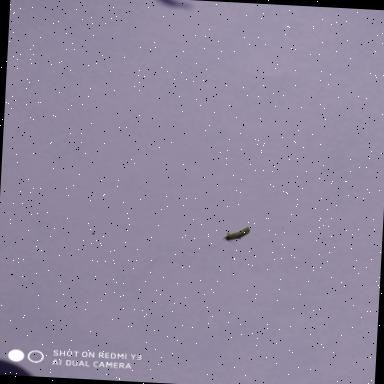pbw: (222, 225, 250, 242)
